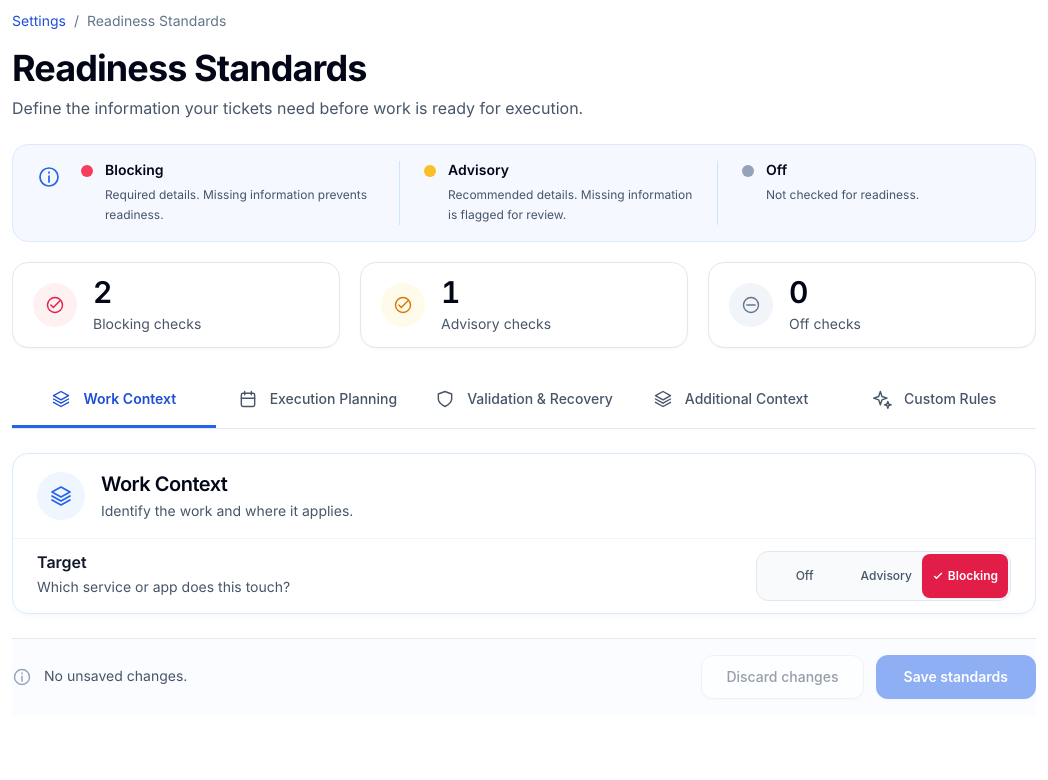
Test: ChecklistSettingsPage › renders the custom-rules list
Click the tab "Custom Rules": (934, 400) [832,372,1036,428]
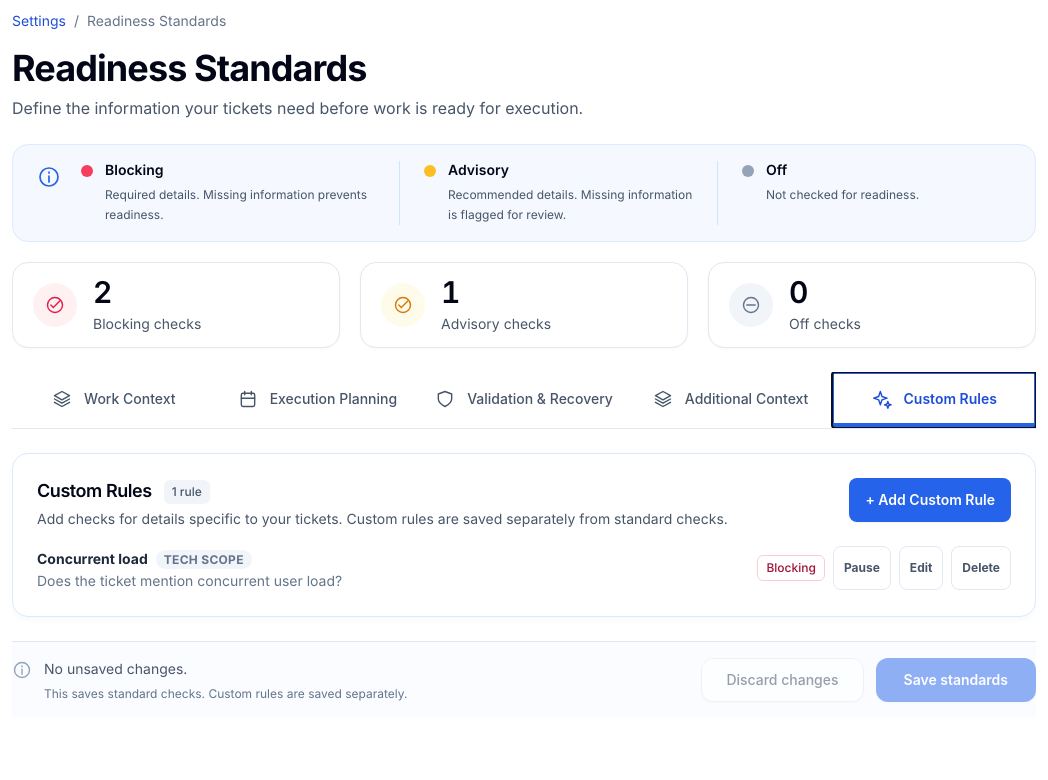
Expected: the text "blocking" is shown, [758,555,825,581]
Expected: the text "Concurrent load" is shown, [37,551,148,568]
Expected: the text "Tech Scope" is shown, [156,550,252,569]
